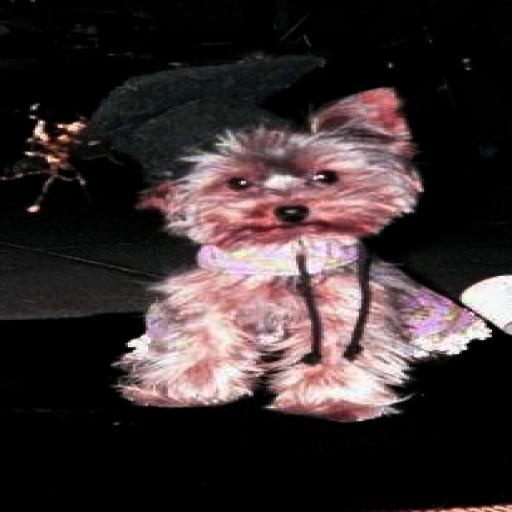dog_face: (154, 100, 428, 254)
